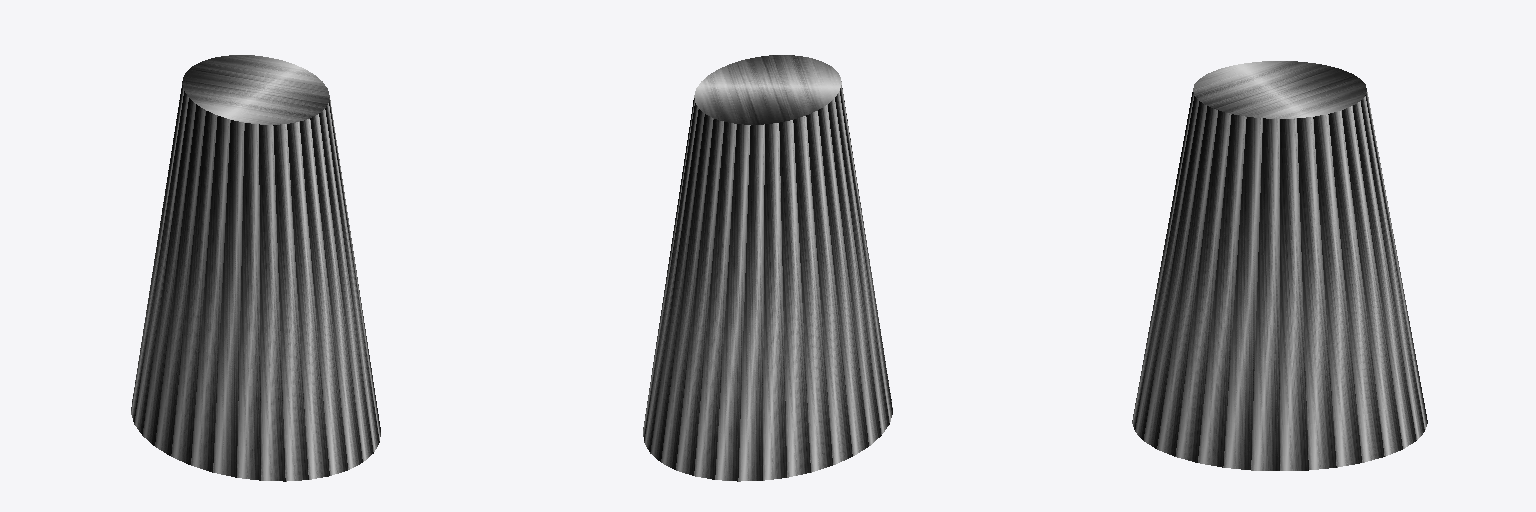
3 views of the same model, side by side, from view 1: azimuth 30°, elevation 25°; view 2: azimuth 150°, elevation 25°; view 3: azimuth 270°, elevation 25° (orthographic).
Visible parts, largest first — view 1: Cylinder_Cylinder.001; view 2: Cylinder_Cylinder.001; view 3: Cylinder_Cylinder.001.
Boxes of the visible parts, <box> form: Cylinder_Cylinder.001: <box>131,55,380,481</box>; Cylinder_Cylinder.001: <box>643,55,892,481</box>; Cylinder_Cylinder.001: <box>1132,61,1427,470</box>.
Size of the model in its own units: 1.43 by 2.25 by 1.82.
Materials: 1 (1 with a texture image).